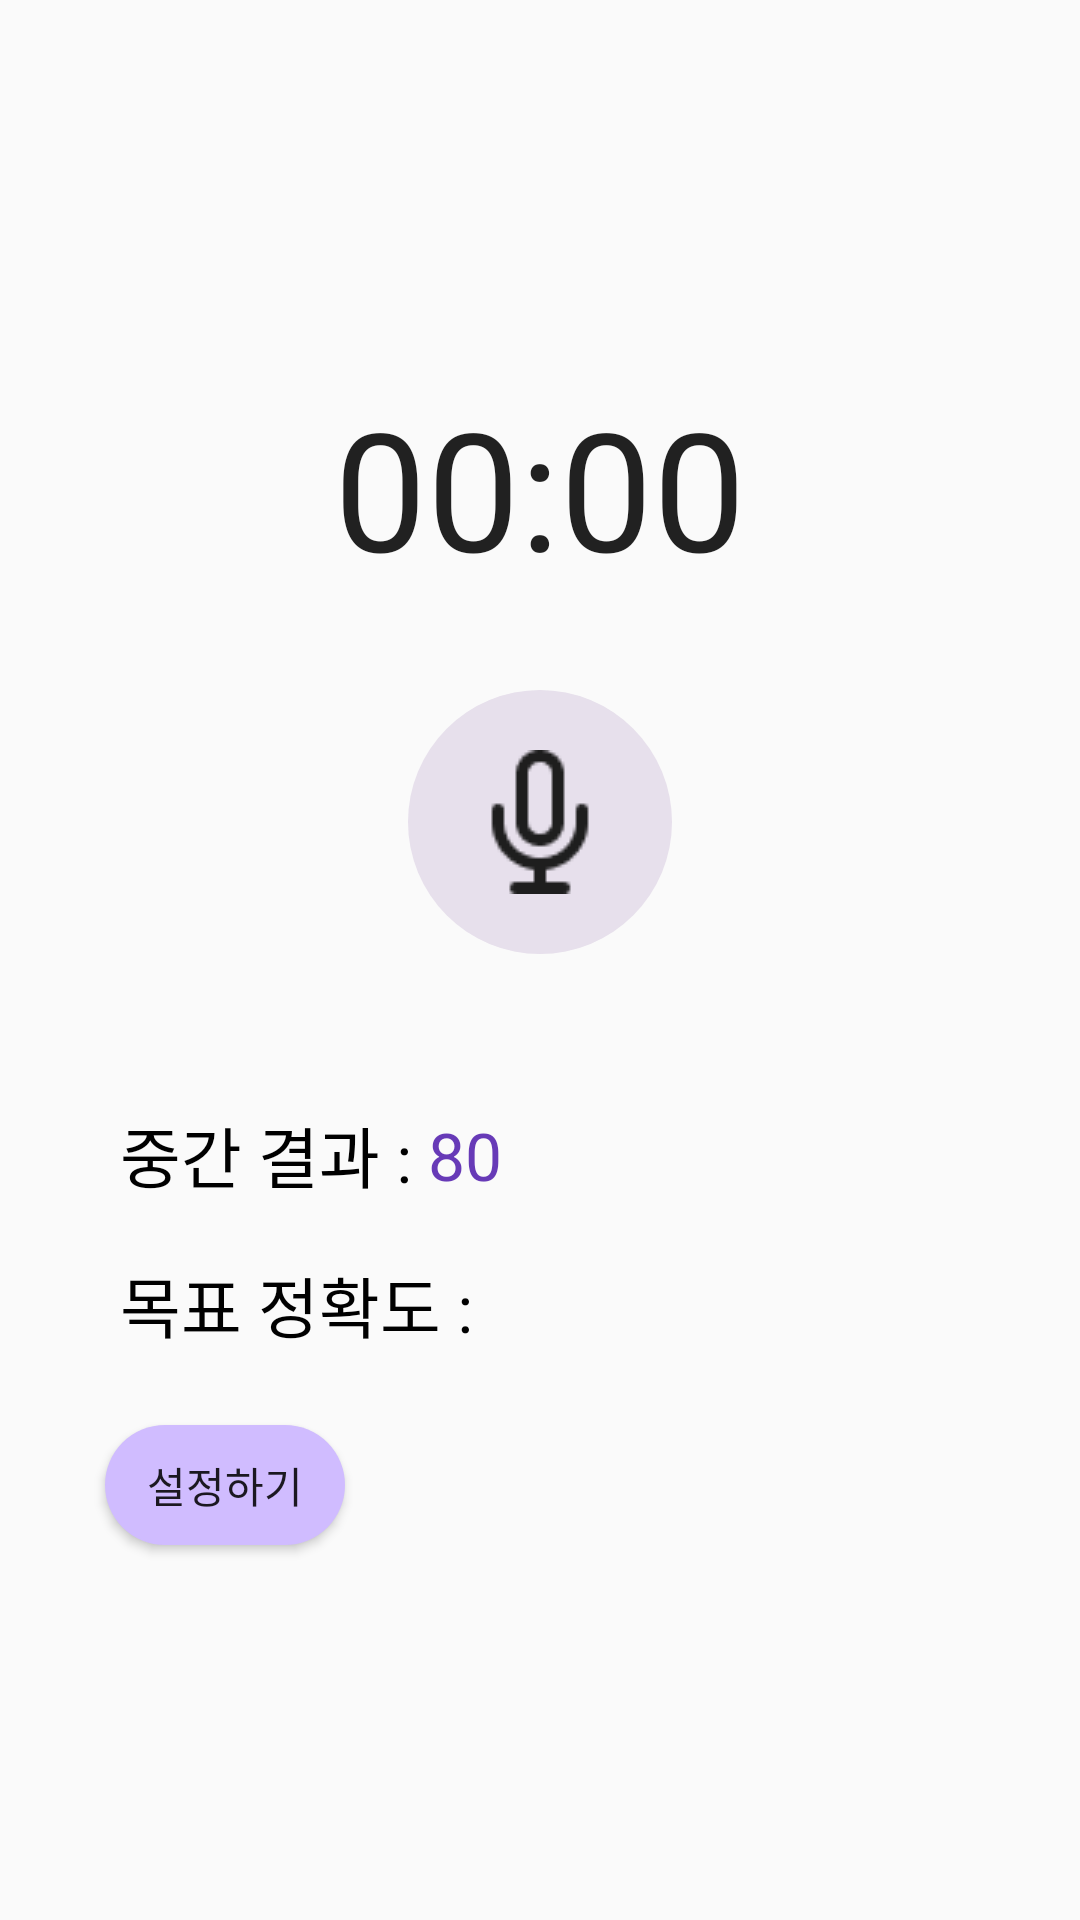

Named icons in this screenshot (1080×1920) and their centers, (x,y):
mic: (540,822)
